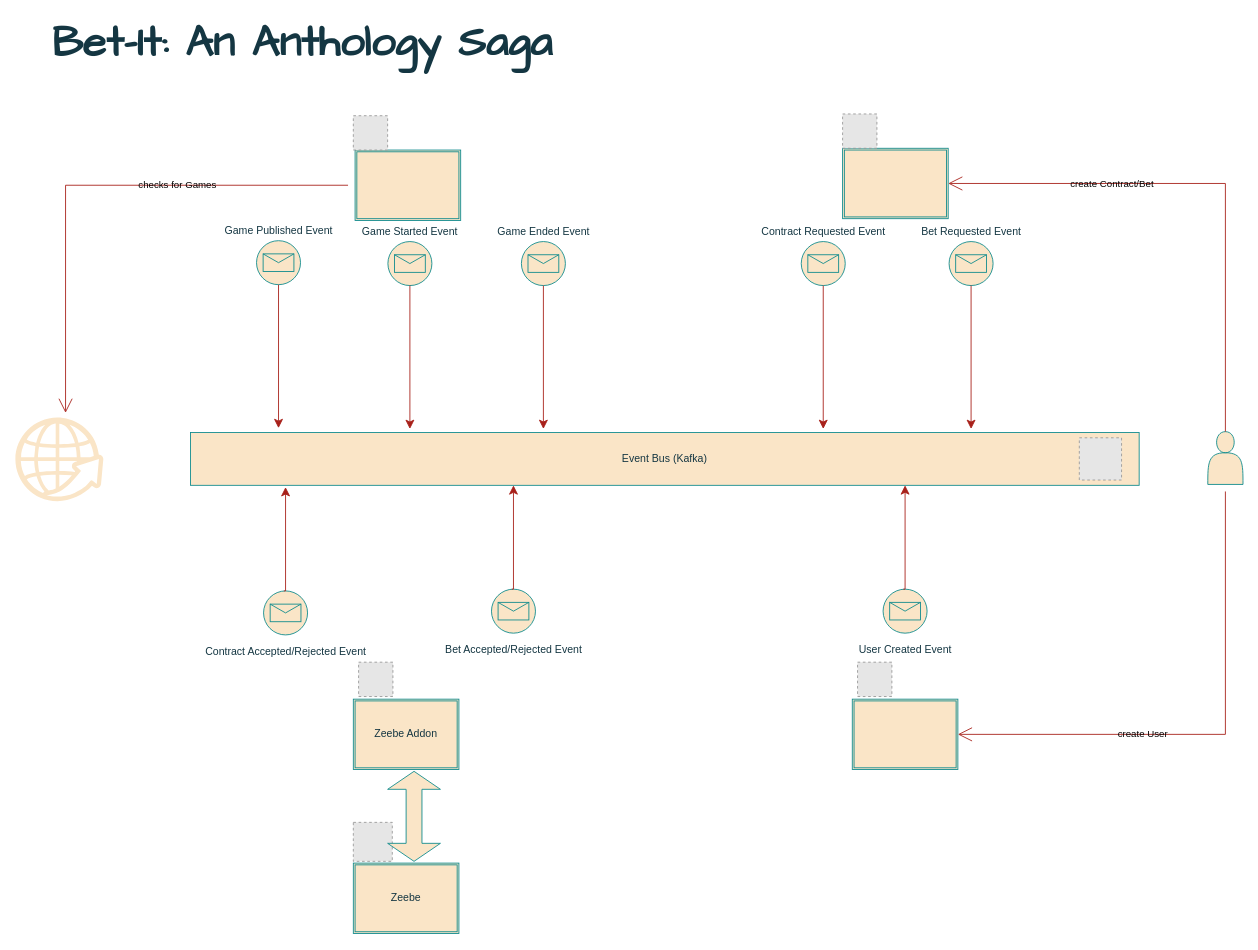
Some shapes in this 1258 by 950 pixel diagram are drawn without their labels. Grey dashed boxes stand in for pictures. The shapes that lost their labels are listed below. From the top down, each one's centre as x and y in pixels, then its label:
At (x=407, y=184): "Game Master".
At (x=895, y=183): "Bet Platform".
At (x=904, y=734): "Bank".
